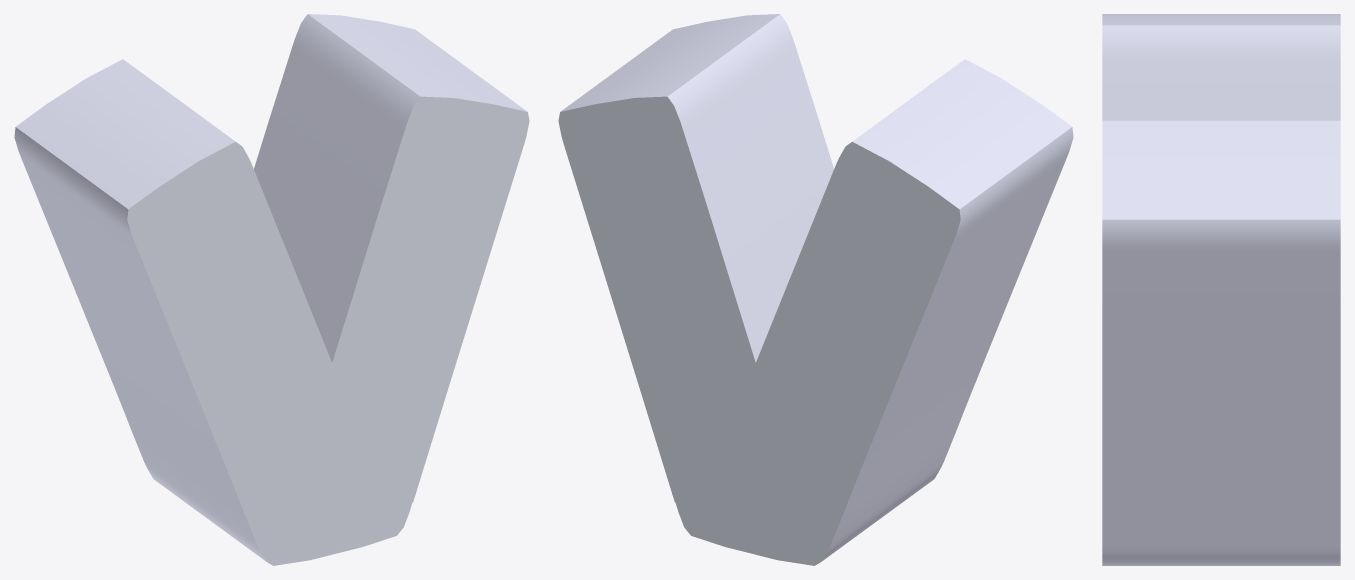
The model's file is V_Zyzol_Grey.glb.
3 renders of one model, left to right at view 1: azimuth 30°, elevation 25°; view 2: azimuth 150°, elevation 25°; view 3: azimuth 270°, elevation 25°, orthographic. The views are drawn at different scales.
Visible parts, largest first — view 1: v_Zyzol_Grey; view 2: v_Zyzol_Grey; view 3: v_Zyzol_Grey.
Boxes of the visible parts, box(x1,y1,x2,y2) form: v_Zyzol_Grey: box(14, 14, 529, 565); v_Zyzol_Grey: box(558, 14, 1073, 565); v_Zyzol_Grey: box(1102, 14, 1340, 565).
Size of what is drawn, in the model's own units: 0.0926 by 0.0961 by 0.045.
Materials: 2 (2 with a texture image).
